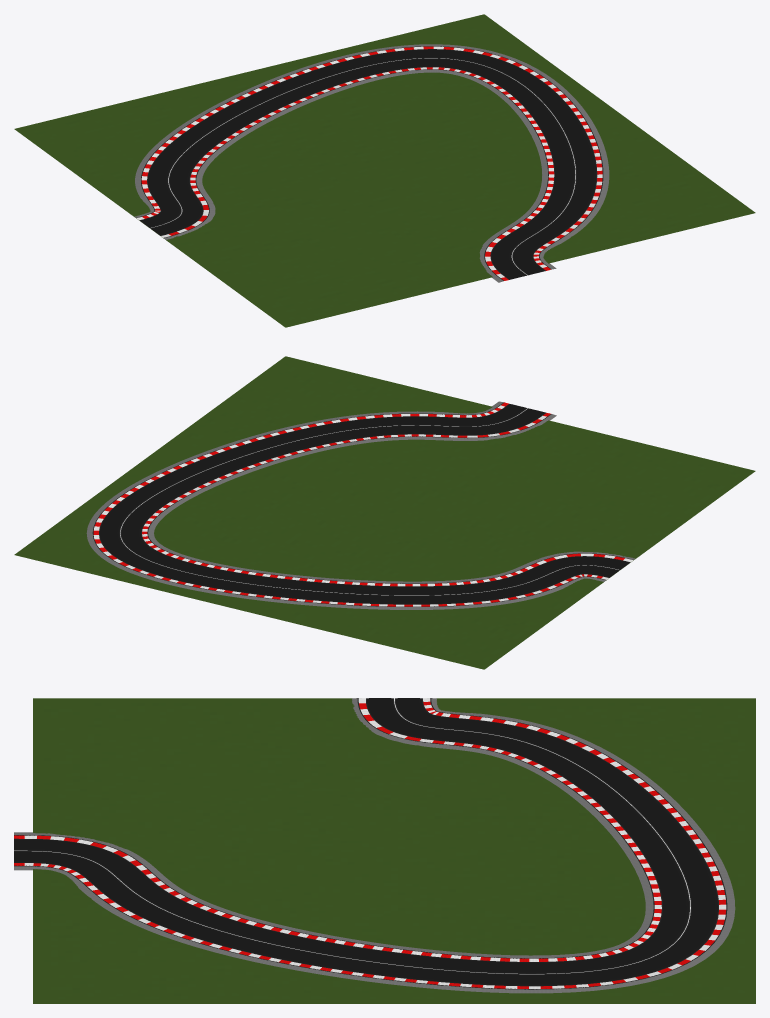
The model's file is S0.Group.202.export.A1R1H0cornRdaaa.glb.
The picture shows the model from 3 angles, top to bottom: view 1: azimuth 30°, elevation 25°; view 2: azimuth 150°, elevation 25°; view 3: azimuth 270°, elevation 25°; orthographic projection. The views are drawn at different scales.
Visible parts, largest first — view 1: Square, Grid; view 2: Square, Grid; view 3: Square, Grid.
Part boxes in pixels (<box>): Square: <box>14,14,755,327</box>; Grid: <box>134,44,609,282</box>; Square: <box>14,356,755,669</box>; Grid: <box>86,401,635,609</box>; Square: <box>33,698,755,1003</box>; Grid: <box>14,698,735,993</box>.
Size of the model in its own units: 202 by 0.4662 by 207.
